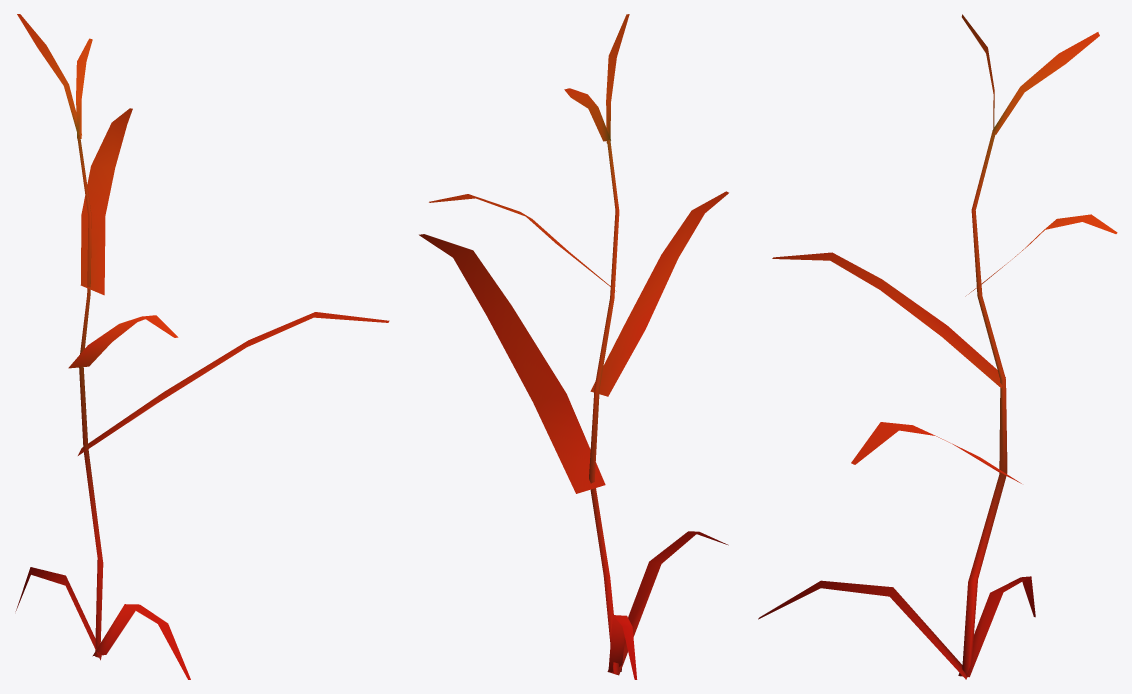
The model's file is SM_OatPlant_5.fbx.
3 views of the same model, side by side, from view 1: azimuth 30°, elevation 25°; view 2: azimuth 150°, elevation 25°; view 3: azimuth 270°, elevation 25° (orthographic). The views are drawn at different scales.
Parts seen in each view (by area): view 1: SM_OatPlant_5; view 2: SM_OatPlant_5; view 3: SM_OatPlant_5.
Boxes of the visible parts, x1,y1,x2,y2 form: SM_OatPlant_5: (15,14,389,679); SM_OatPlant_5: (419,14,728,679); SM_OatPlant_5: (758,14,1117,679).
Bounding box in the file's own units: 0.4351 × 0.8914 × 0.4423.
